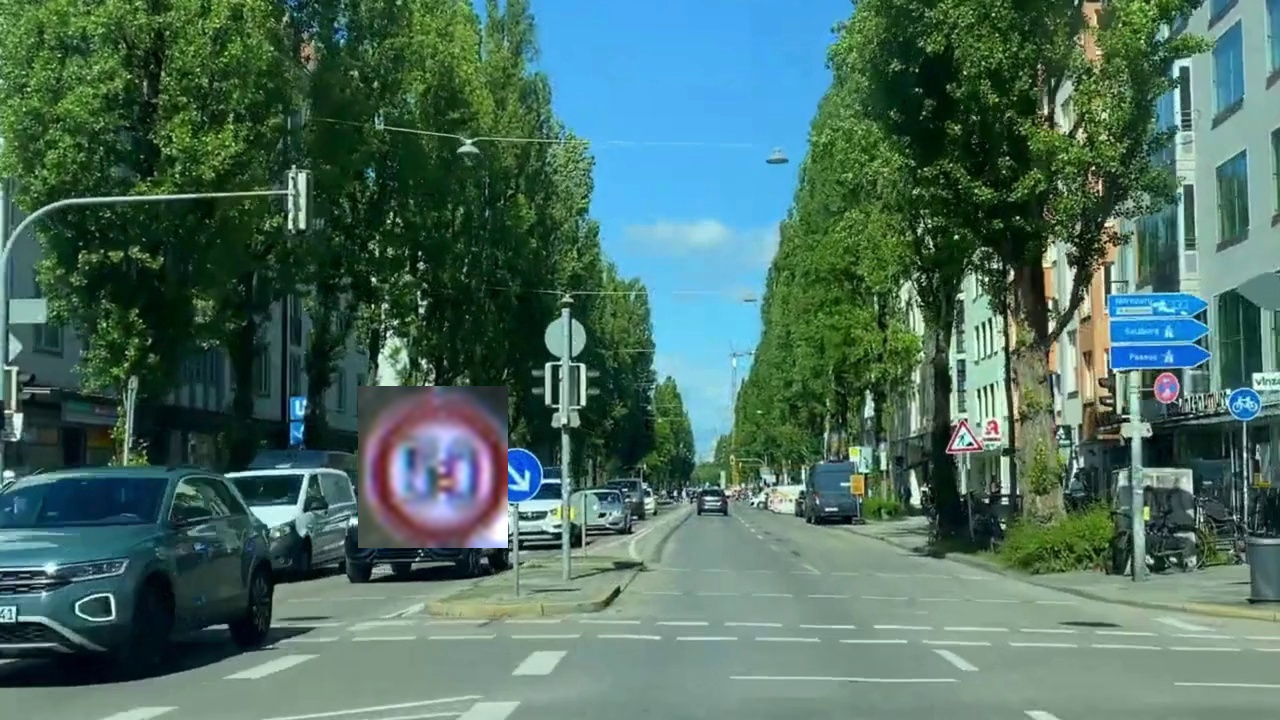Speed 50: (358, 386, 508, 548)
